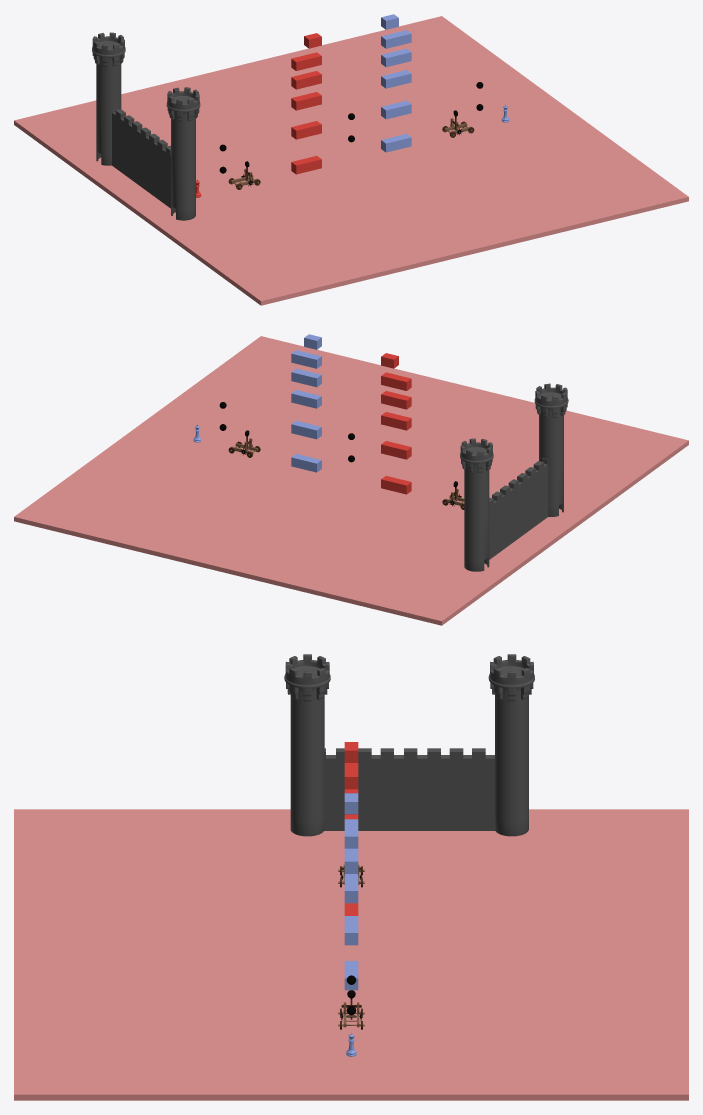
The model's file is level1.glb.
3 renders of one model, top to bottom at view 1: azimuth 30°, elevation 25°; view 2: azimuth 150°, elevation 25°; view 3: azimuth 270°, elevation 25°, orthographic. The views are drawn at different scales.
Visible parts, largest first — view 1: Plane-ColVis, Cylinder, Cylinder.001, wall.002, wall.001; view 2: Plane-ColVis, Cylinder.001, Cylinder, wall.001, wall.002; view 3: Plane-ColVis, wall.002, Cylinder, Cylinder.001, wall.001.
Part boxes in pixels (x1,y1,x2,y2): Plane-ColVis: [14, 16, 688, 305]; Cylinder: [166, 87, 200, 220]; Cylinder.001: [92, 32, 125, 165]; wall.002: [112, 109, 150, 189]; wall.001: [145, 133, 175, 211]; Plane-ColVis: [14, 336, 688, 625]; Cylinder.001: [460, 438, 493, 571]; Cylinder: [534, 383, 568, 516]; wall.001: [517, 458, 548, 537]; wall.002: [489, 479, 518, 559]; Plane-ColVis: [14, 809, 688, 1100]; wall.002: [404, 748, 495, 830]; Cylinder: [284, 654, 330, 836]; Cylinder.001: [488, 654, 534, 836]; wall.001: [324, 748, 404, 830].
Size of what is drawn, in the model's own units: 100 by 30.4 by 100.
Materials: 9 (3 with a texture image).
